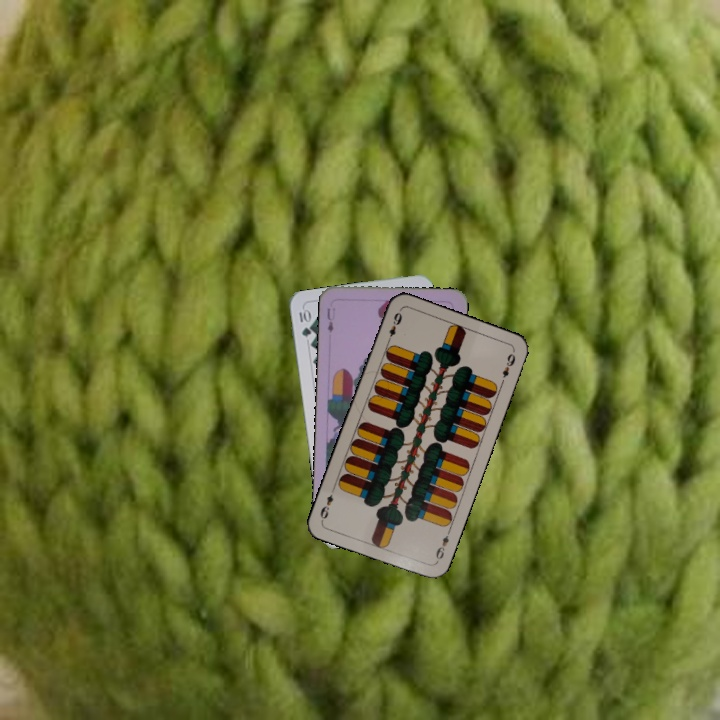E9: (383, 307, 405, 346), (431, 526, 453, 565)
EU: (323, 304, 338, 335)
G10: (295, 305, 313, 339)
